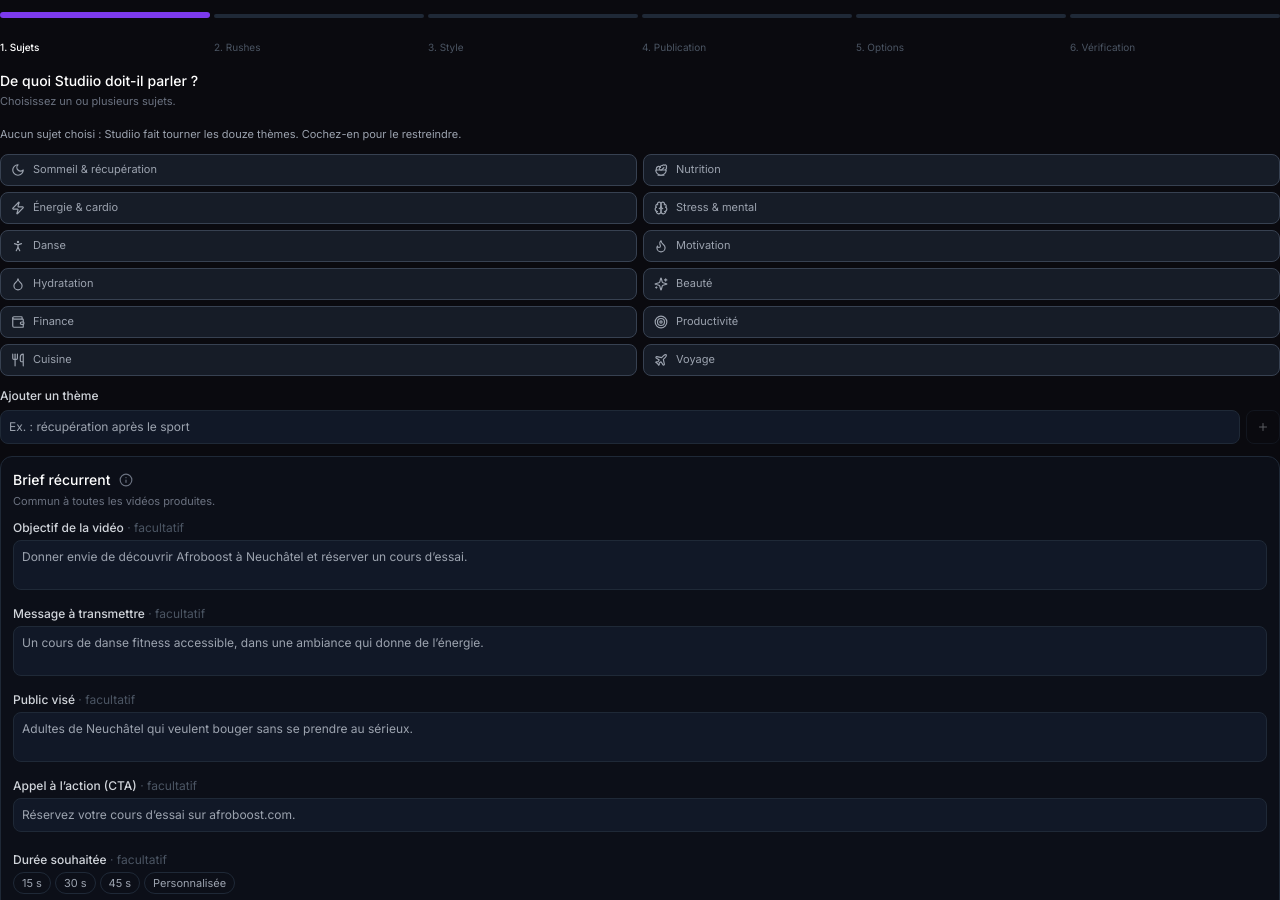
Test: Autopilote — guidage par étape › ⚠️ étape Style : l’essentiel visible, les réglages avancés repliés avec leurs valeurs actuelles
The width and height of the screenshot is (1280, 900).
Expected: the text "De quoi Studiio doit-il parler ?" is shown, [0, 72, 198, 89]
What coordinates should you click on to do the following:
click the button named "Style"
I would click on:
 (533, 16)
Its box is [428, 14, 638, 18].
(page scrolled)
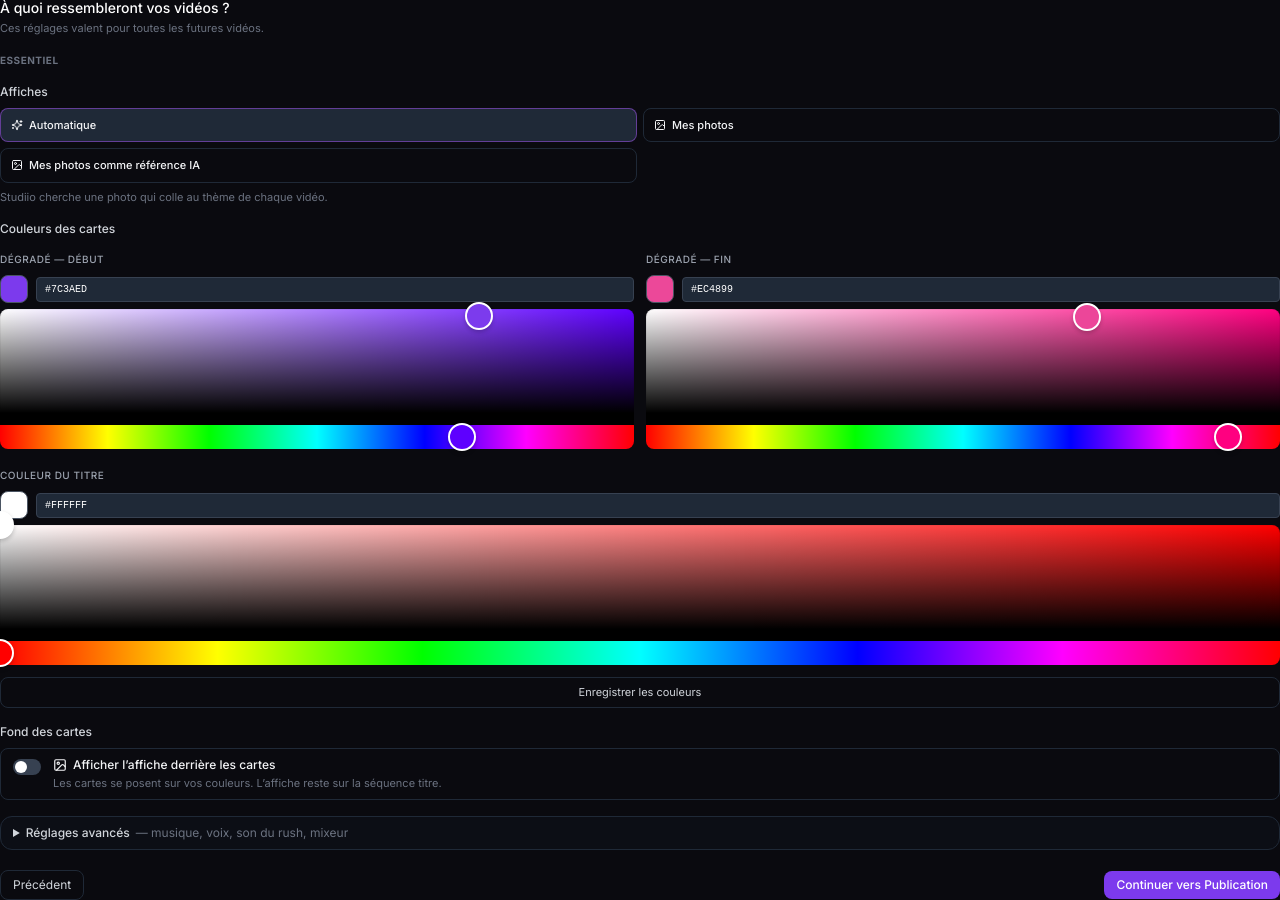
Now the text "Essentiel" is shown, box [0, 54, 59, 66]
Now the text "Affiches" is shown, box [0, 84, 48, 98]
Now the text "Couleurs des cartes" is shown, box [0, 221, 115, 236]
